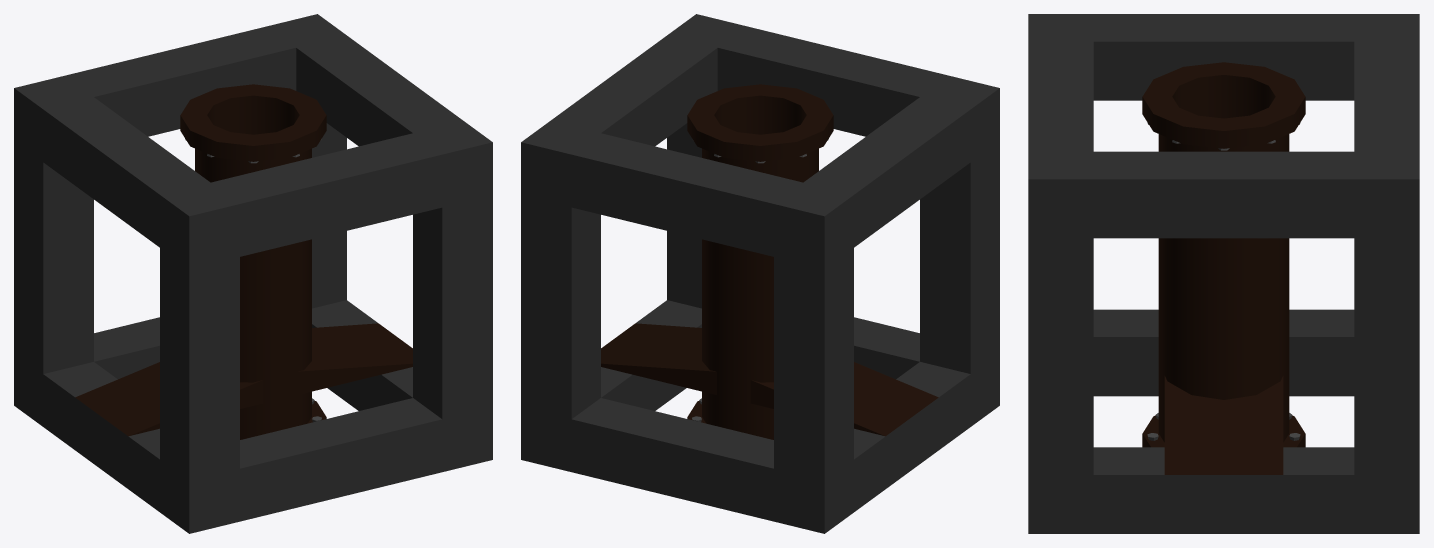
Rendered from well_ground.obj.
The picture shows the model from 3 angles, left to right: view 1: azimuth 30°, elevation 25°; view 2: azimuth 150°, elevation 25°; view 3: azimuth 270°, elevation 25°; orthographic projection. The views are drawn at different scales.
Parts seen in each view (by area): view 1: ground cube, pie, Base thingy; view 2: ground cube, pie, Base thingy; view 3: ground cube, pie, Base thingy.
Boxes of the visible parts, left/top/right/bottom form: ground cube: left=14, top=14, right=492, bottom=533; pie: left=180, top=84, right=326, bottom=439; Base thingy: left=75, top=323, right=412, bottom=436; ground cube: left=521, top=14, right=999, bottom=533; pie: left=687, top=84, right=833, bottom=439; Base thingy: left=601, top=323, right=938, bottom=436; ground cube: left=1028, top=14, right=1419, bottom=533; pie: left=1142, top=62, right=1305, bottom=447; Base thingy: left=1164, top=376, right=1283, bottom=474.
Size of the model in its own units: 3 by 3 by 3.
